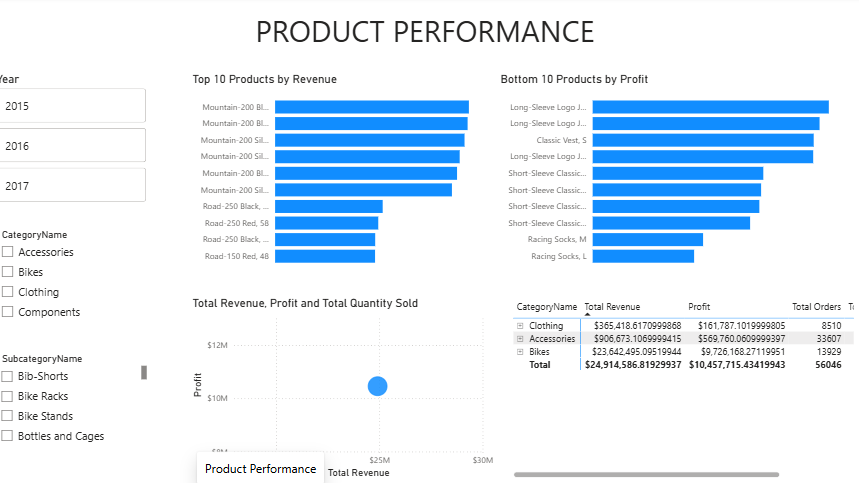

Layout of this report page (visuals, bound fields, positions):
{"tool":"powerbi","page":{"name":"Product Performance","canvas":[1280,720],"ordinal":1},"visuals":[{"type":"clusteredBarChart","title":"Top 10 Products by Revenue","fields":{"Category":["AdventureWorks_Products.ProductName"],"Y":["AdventureWorks_Customers.Total Revenue"]},"box":[286.8,109.8,450.7,294.1],"z":0},{"type":"clusteredBarChart","title":"Bottom 10 Products by Profit","fields":{"Y":["AdventureWorks_Customers.Profit"],"Category":["AdventureWorks_Products.ProductName"]},"box":[737.6,109.8,507.8,294.1],"z":1000},{"type":"scatterChart","fields":{"X":["AdventureWorks_Customers.Total Revenue"],"Y":["AdventureWorks_Customers.Profit"],"Size":["AdventureWorks_Customers.Total Quantity Sold"]},"box":[286.8,437.6,450.7,270.7],"z":2000},{"type":"pivotTable","fields":{"Rows":["AdventureWorks_Products.CategoryName","AdventureWorks_Products.SubcategoryName","AdventureWorks_Products.ProductName"],"Values":["AdventureWorks_Customers.Total Revenue","AdventureWorks_Customers.Profit","AdventureWorks_Customers.Total Orders","AdventureWorks_Customers.Total Quantity Sold"]},"box":[756.6,437.6,507.8,270.7],"z":3000},{"type":"advancedSlicerVisual","fields":{"Values":["Dim_Date.Year"]},"box":[0,109.8,229.8,197.6],"z":3001},{"type":"slicer","fields":{"Values":["AdventureWorks_Products.CategoryName"]},"box":[0,335.1,229.8,163.9],"z":3002},{"type":"slicer","fields":{"Values":["AdventureWorks_Products.SubcategoryName"]},"box":[0,516.6,229.8,149.3],"z":3003},{"type":"textbox","box":[0,14.6,1264.4,83.4],"z":3004}]}

Visuals, with their boxes on the page's 1280x720 design canvas (x1, y1, x2, y2). These are canvas units, not pixel positions in the 859x483 screenshot, which may show the page scaled, cropped or inside an application window:
"Top 10 Products by Revenue" clusteredBarChart: 287/110/738/404
"Bottom 10 Products by Profit" clusteredBarChart: 738/110/1245/404
scatterChart - AdventureWorks_Customers.Total Revenue x AdventureWorks_Customers.Profit: 287/438/738/708
pivotTable - AdventureWorks_Products.CategoryName x AdventureWorks_Products.SubcategoryName: 757/438/1264/708
advancedSlicerVisual - Dim_Date.Year: 0/110/230/307
slicer - AdventureWorks_Products.CategoryName: 0/335/230/499
slicer - AdventureWorks_Products.SubcategoryName: 0/517/230/666
textbox: 0/15/1264/98
